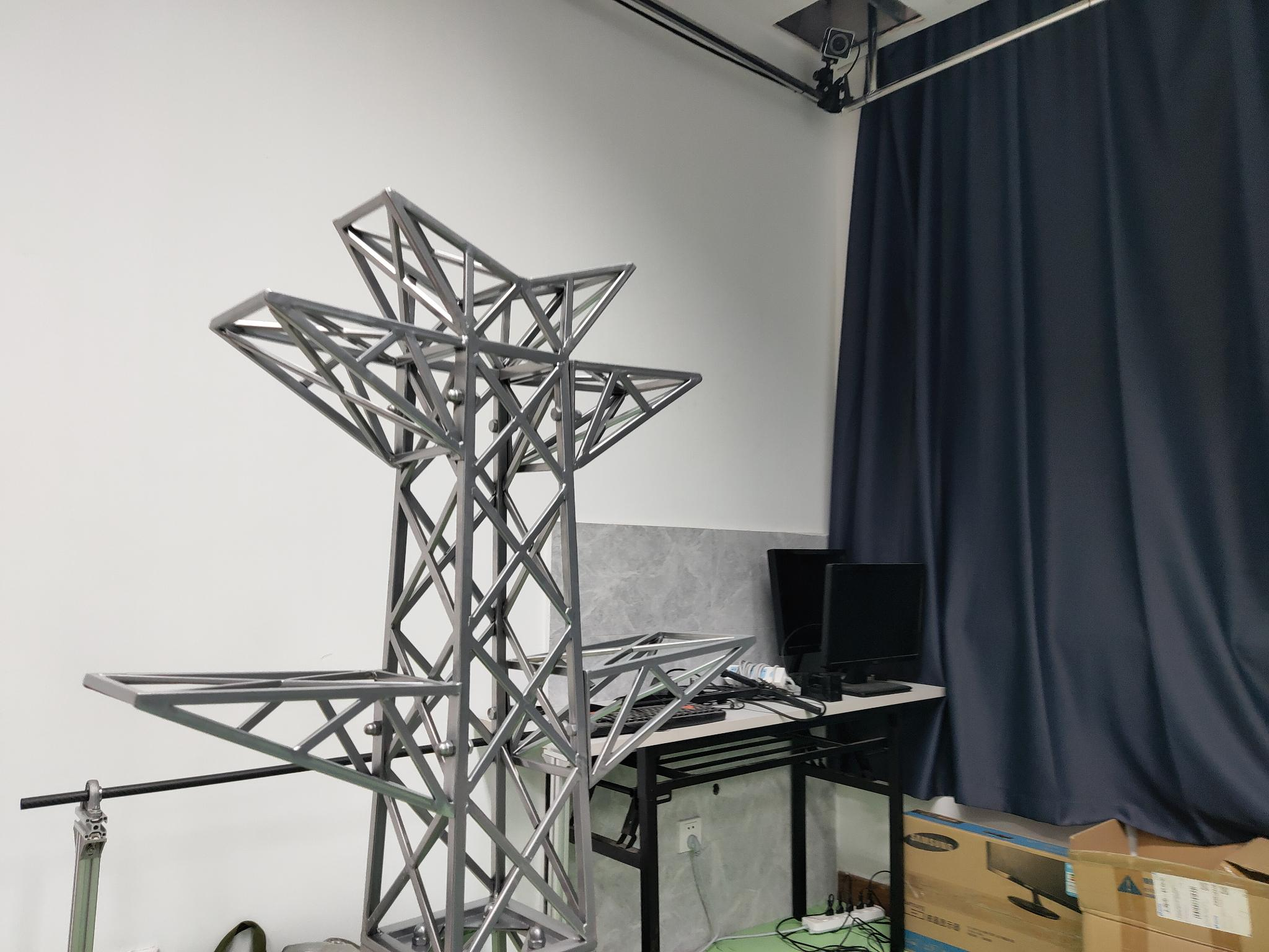tower: (88, 194, 743, 952)
